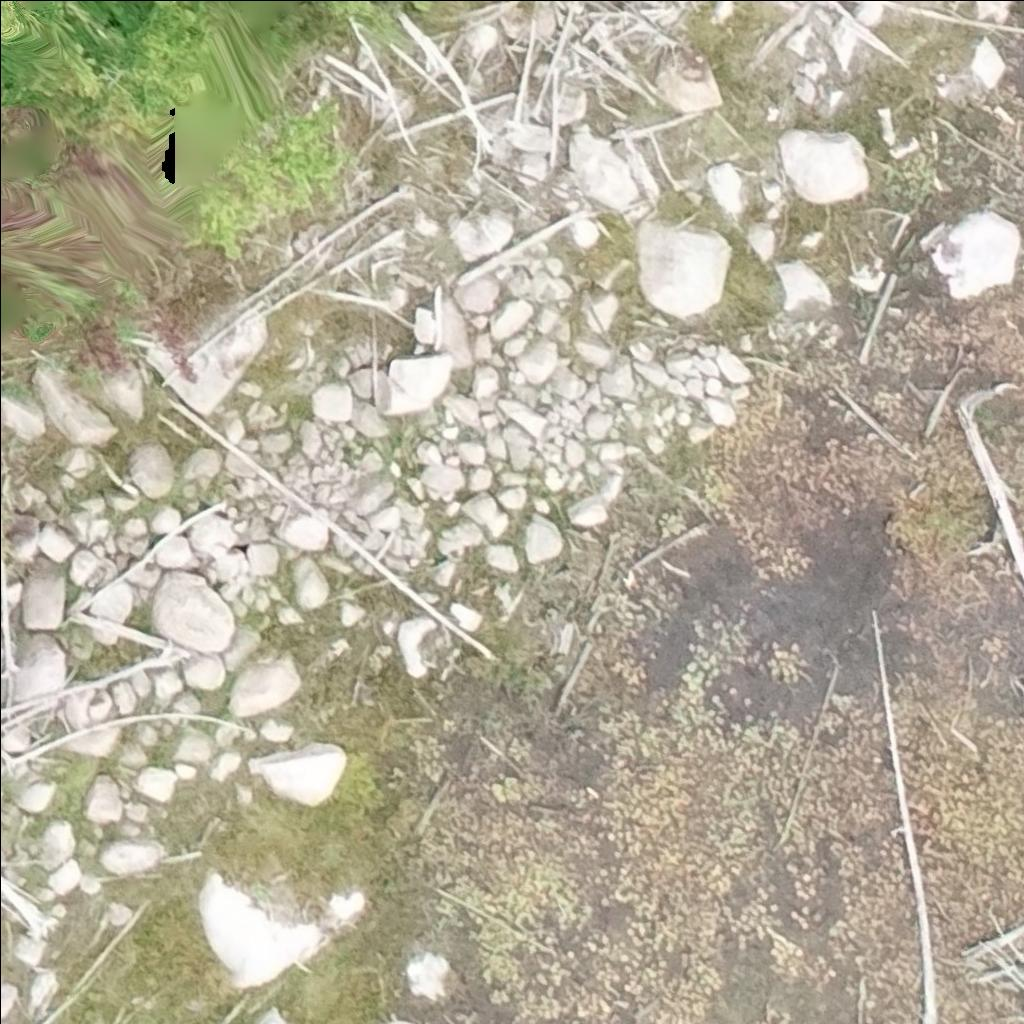crown: (0, 0, 22, 39)
